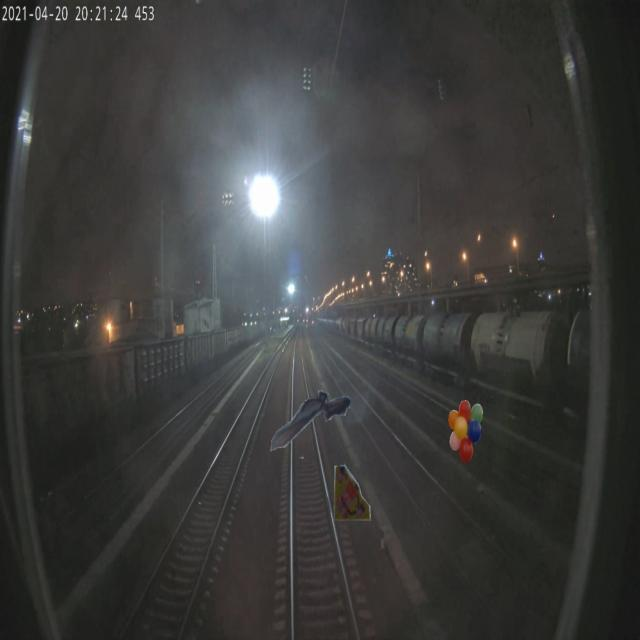balloon: (448, 399, 483, 464)
floating object: (270, 388, 351, 452), (332, 460, 371, 524)
